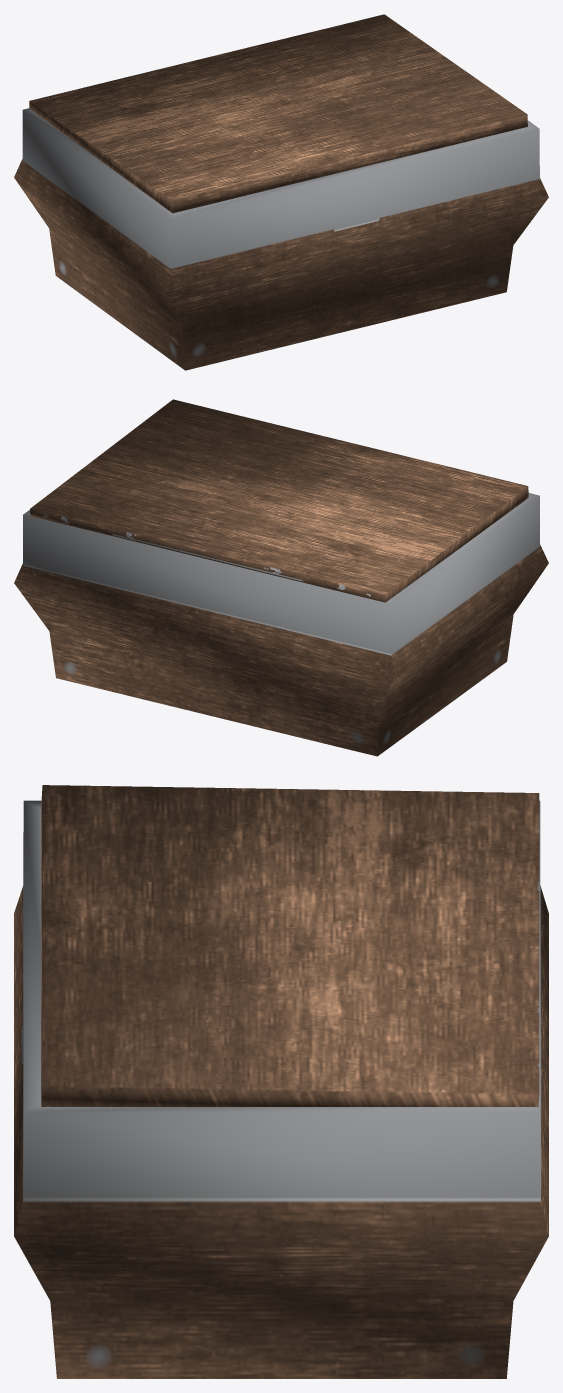
The model's file is AmmoBox2.fbx.
The picture shows the model from 3 angles, top to bottom: view 1: azimuth 30°, elevation 25°; view 2: azimuth 150°, elevation 25°; view 3: azimuth 270°, elevation 25°; orthographic projection. The views are drawn at different scales.
Visible parts, largest first — view 1: CONSUMABLES_LP001; view 2: CONSUMABLES_LP001; view 3: CONSUMABLES_LP001.
Part boxes in pixels (x1,y1,x2,y2): CONSUMABLES_LP001: (14, 14, 548, 370); CONSUMABLES_LP001: (14, 399, 548, 756); CONSUMABLES_LP001: (14, 785, 548, 1378).
Size of the model in its own units: 145 by 101 by 64.25.
